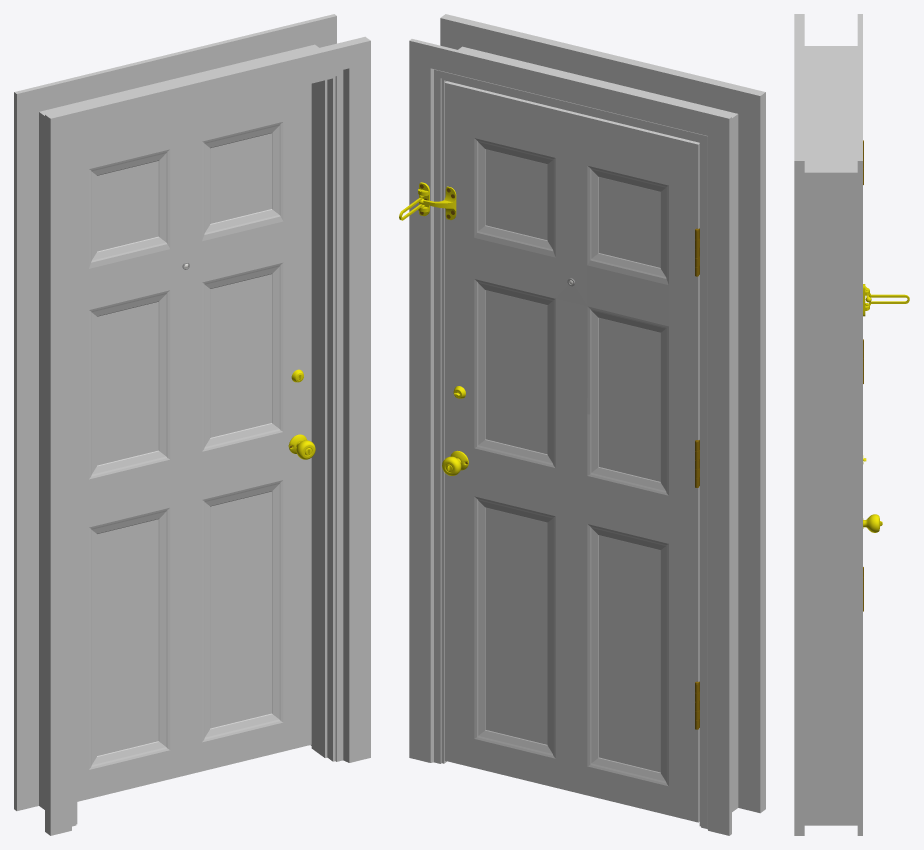
File: FrontDoor.fbx
3 views of the same model, side by side, from view 1: azimuth 30°, elevation 25°; view 2: azimuth 150°, elevation 25°; view 3: azimuth 270°, elevation 25° (orthographic). The views are drawn at different scales.
Visible parts, largest first — view 1: Front_Door, Front_Door_Frame; view 2: Front_Door, Front_Door_Frame; view 3: Front_Door_Frame, Limiter_Latch, Front_Doorknob.
Boxes of the visible parts, x1,y1,x2,y2 form: Front_Door: (77, 83, 311, 801); Front_Door_Frame: (14, 14, 370, 835); Front_Door: (444, 81, 699, 822); Front_Door_Frame: (409, 14, 765, 835); Front_Door_Frame: (794, 14, 862, 835); Limiter_Latch: (865, 289, 909, 305); Front_Doorknob: (863, 514, 882, 532).
Size of the model in its own units: 327 by 700 by 108.
